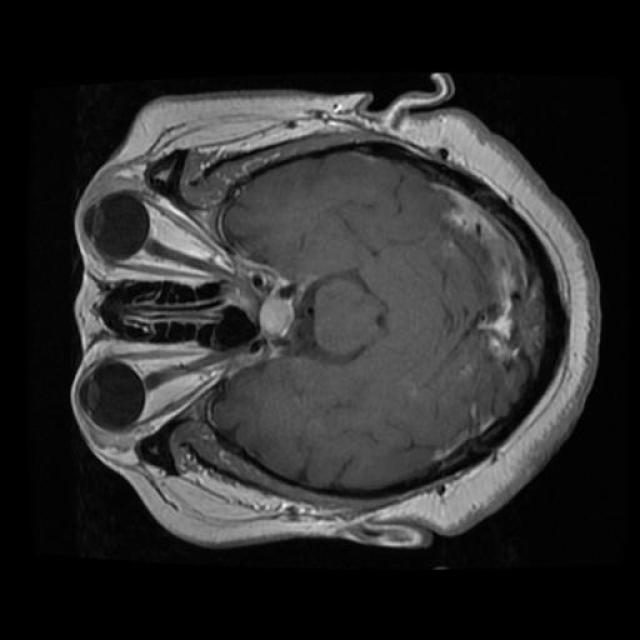Pituitary: (249, 265, 296, 361)
